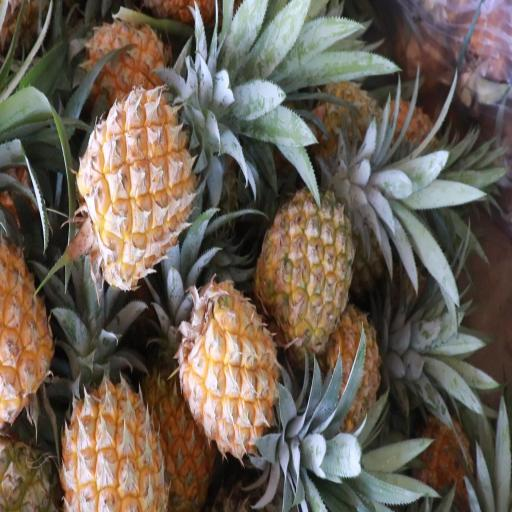------------------------------: (260, 188, 352, 348)
Pineapple - v8 v1: (82, 89, 193, 280), (181, 287, 279, 452), (64, 361, 163, 512), (144, 353, 216, 503), (87, 20, 170, 102)
